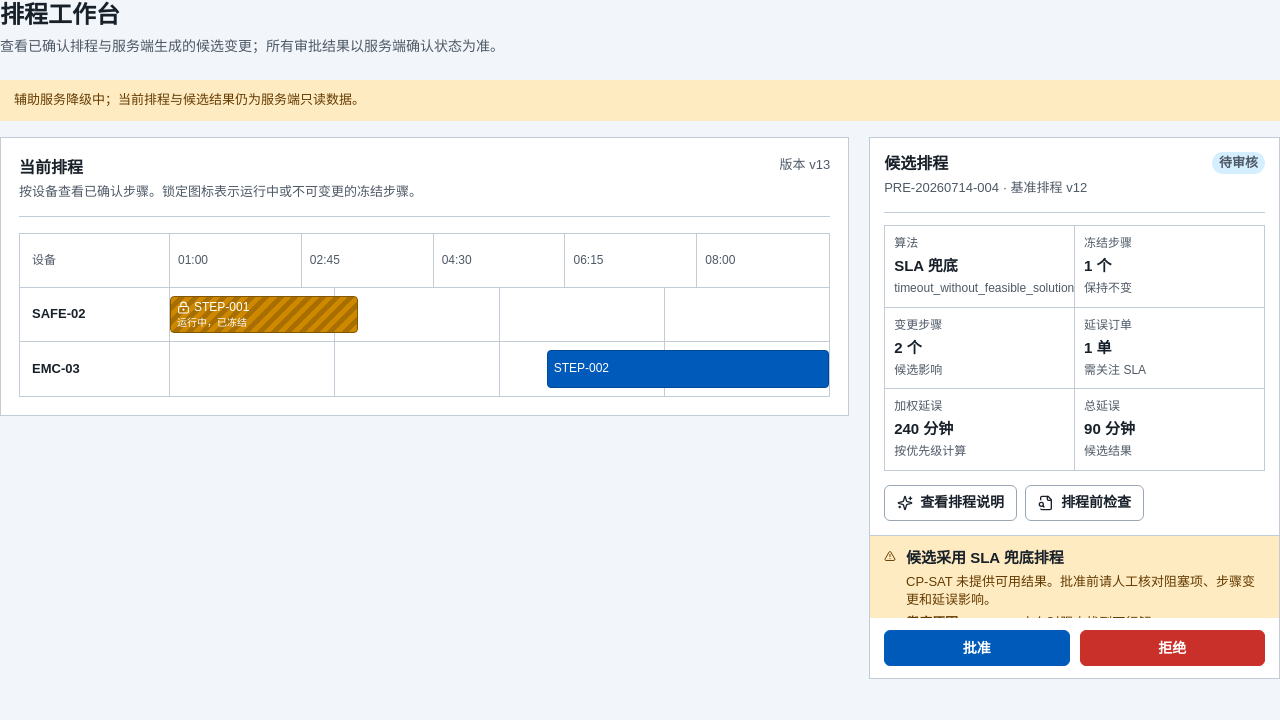
SchedulingPage › reuses one idempotency key when a rejection is retried
The image size is (1280, 720).
Later steps or results of the test are not shown.
Click the button with aria-label "拒绝候选排程". click: coordinates (1172, 648)
box: [1080, 630, 1265, 666]
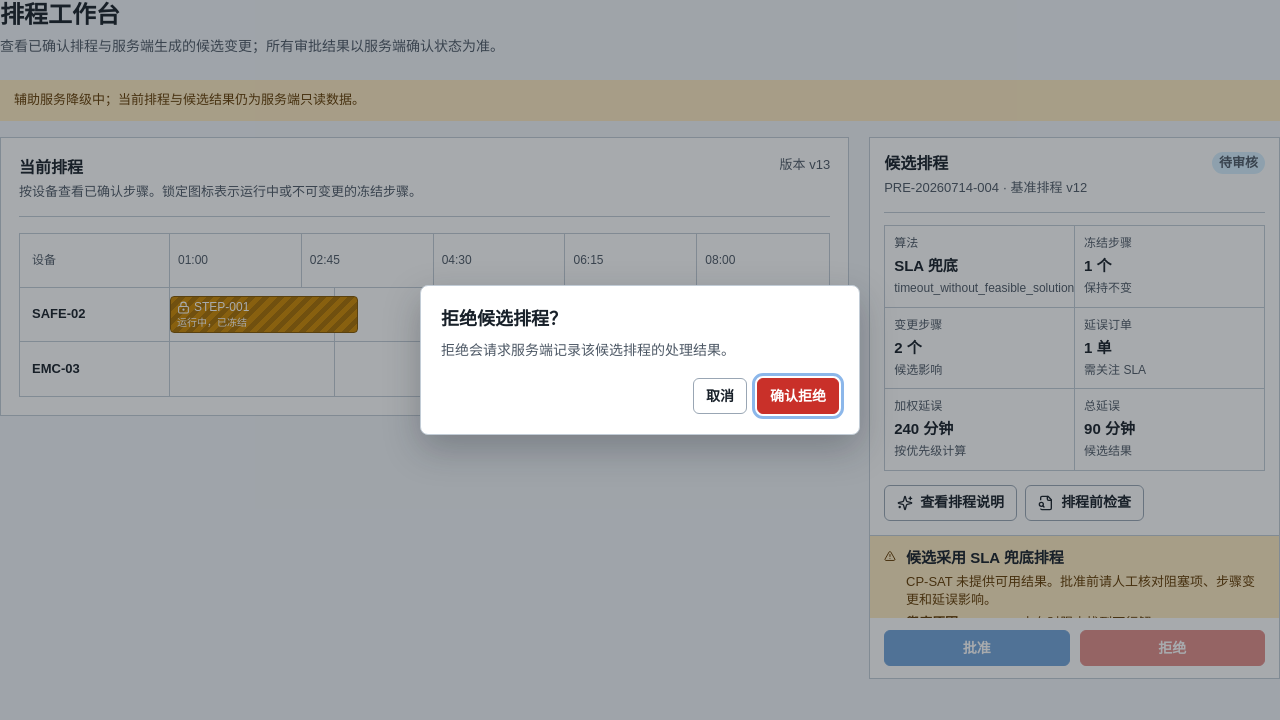
Click the button "确认拒绝". click: coordinates (798, 396)
box: [757, 378, 839, 414]
(page scrolled)
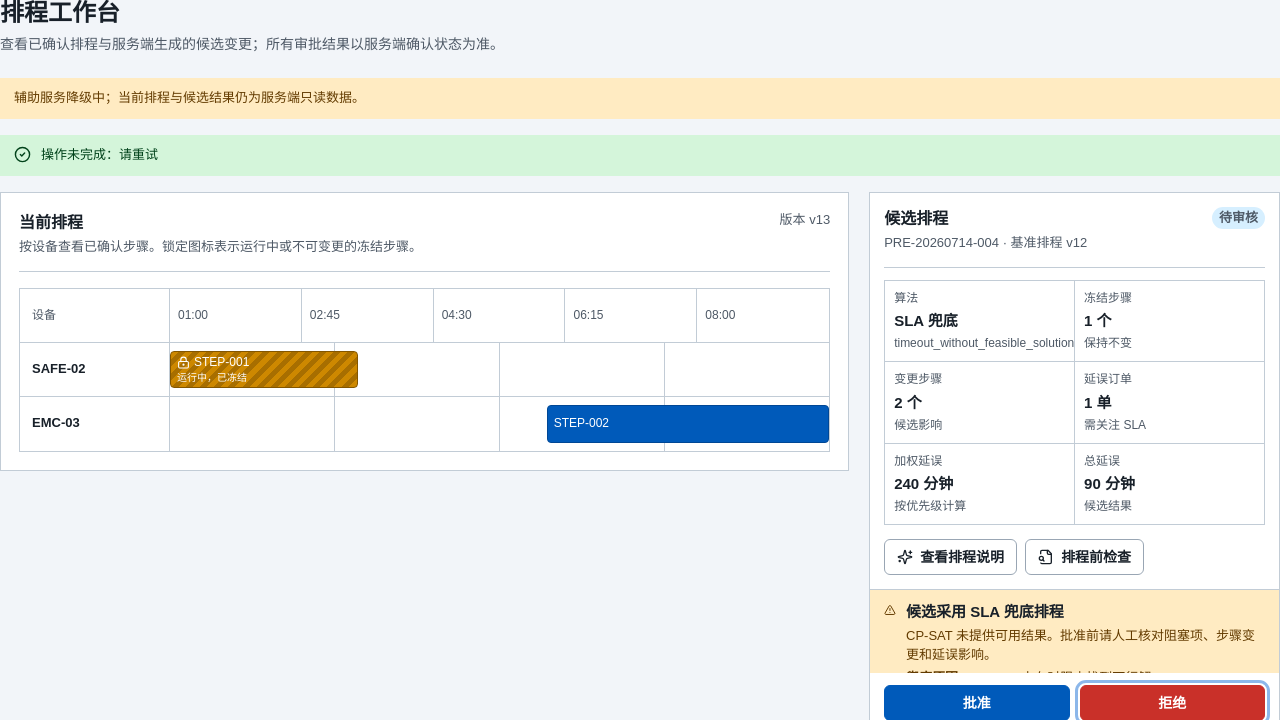
Result: the text "操作未完成：请重试" is shown at [0, 135, 1279, 176]
